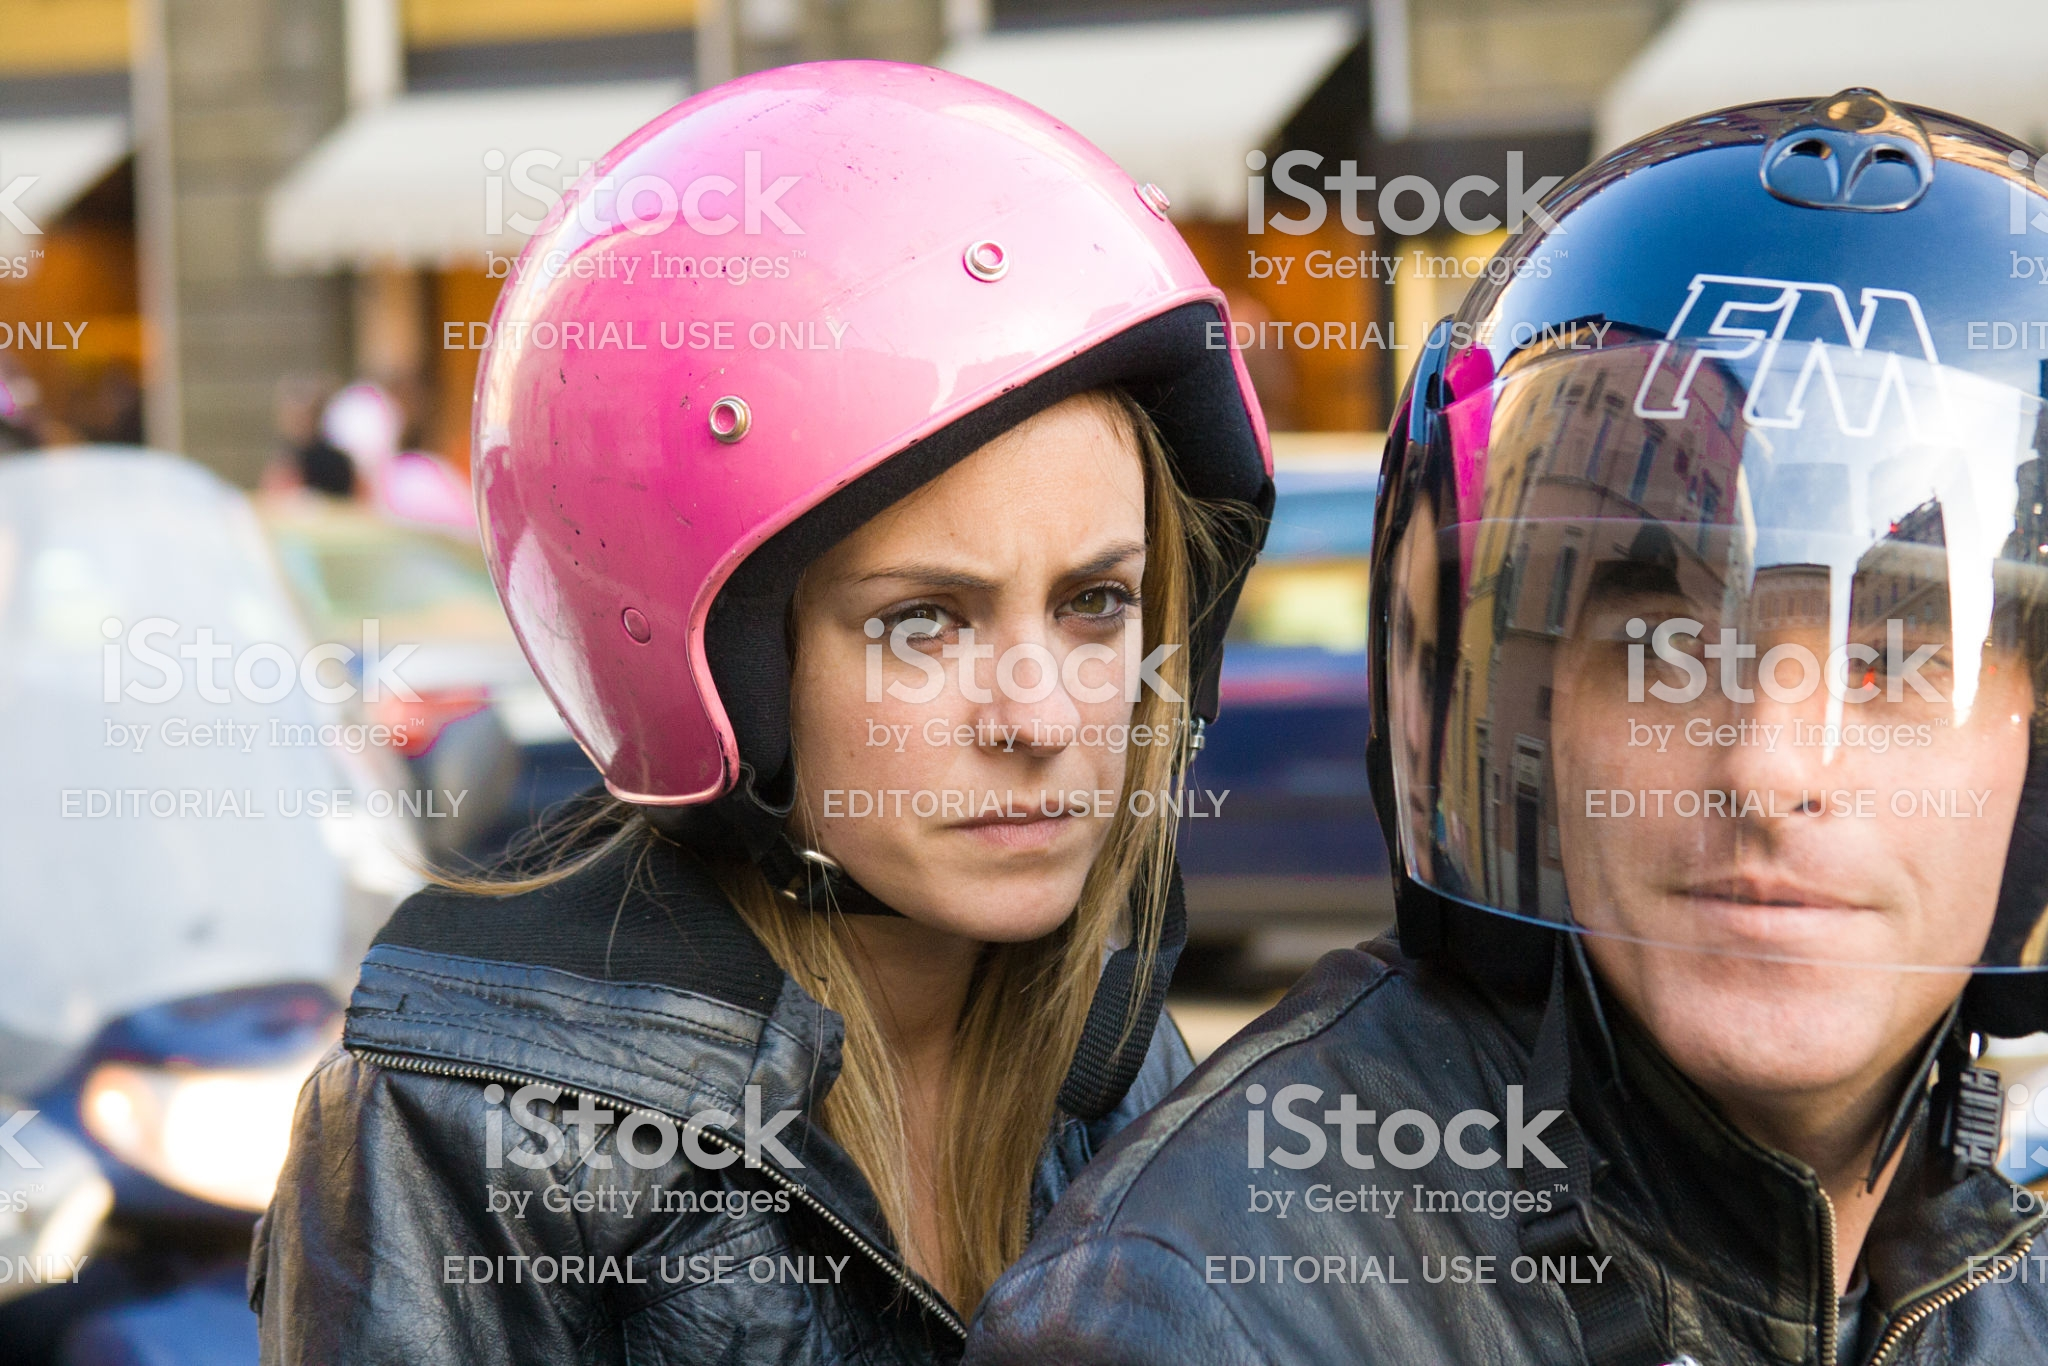helmet: (440, 46, 1242, 756), (1403, 171, 2048, 935)
